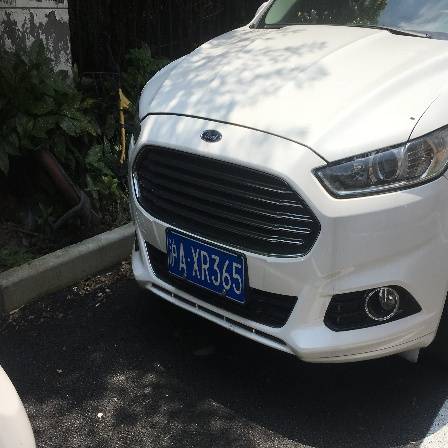plate: (162, 228, 251, 302)
